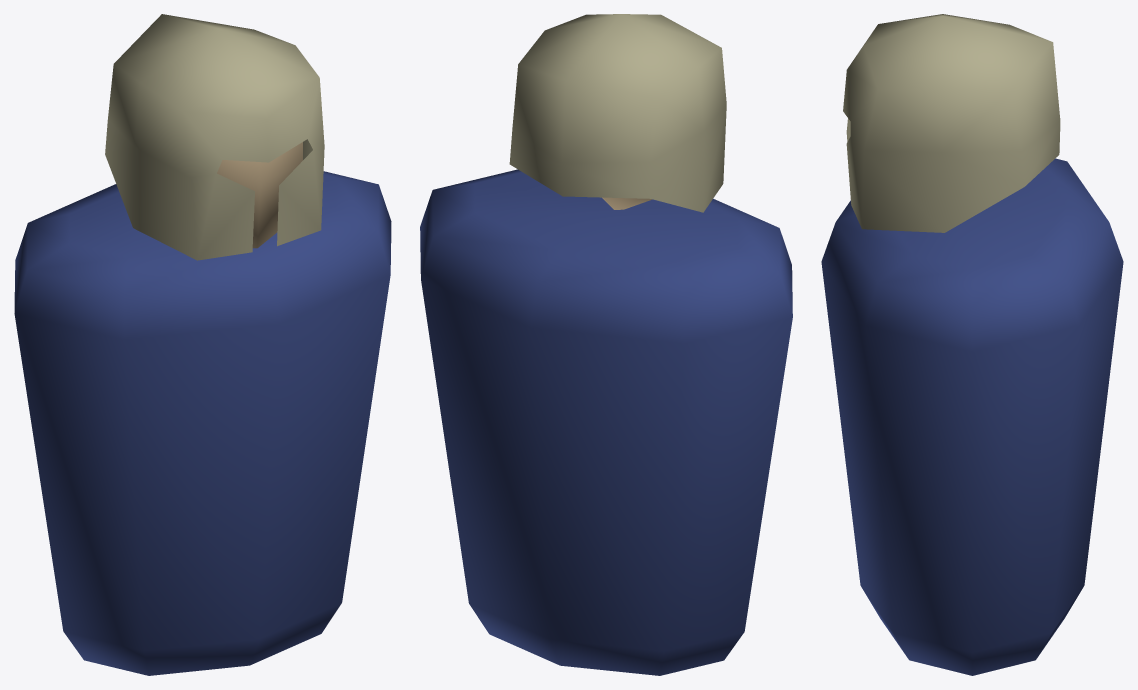
Rendered from Player.fbx.
3 renders of one model, left to right at view 1: azimuth 30°, elevation 25°; view 2: azimuth 150°, elevation 25°; view 3: azimuth 270°, elevation 25°, orthographic.
Visible parts, largest first — view 1: body, helmet, head; view 2: body, helmet; view 3: body, helmet.
Part boxes in pixels (x1,y1,x2,y2): body: (14,171,391,675); helmet: (105,14,324,260); head: (217,142,302,248); body: (420,169,792,675); helmet: (509,14,726,212); body: (821,158,1123,675); helmet: (843,14,1060,232).
Bounding box in the file's own units: 111 × 177 × 78.62.
